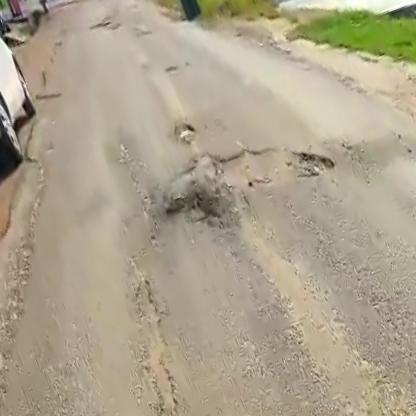pothole: (175, 128, 333, 226), (155, 169, 236, 243), (170, 115, 201, 148)
